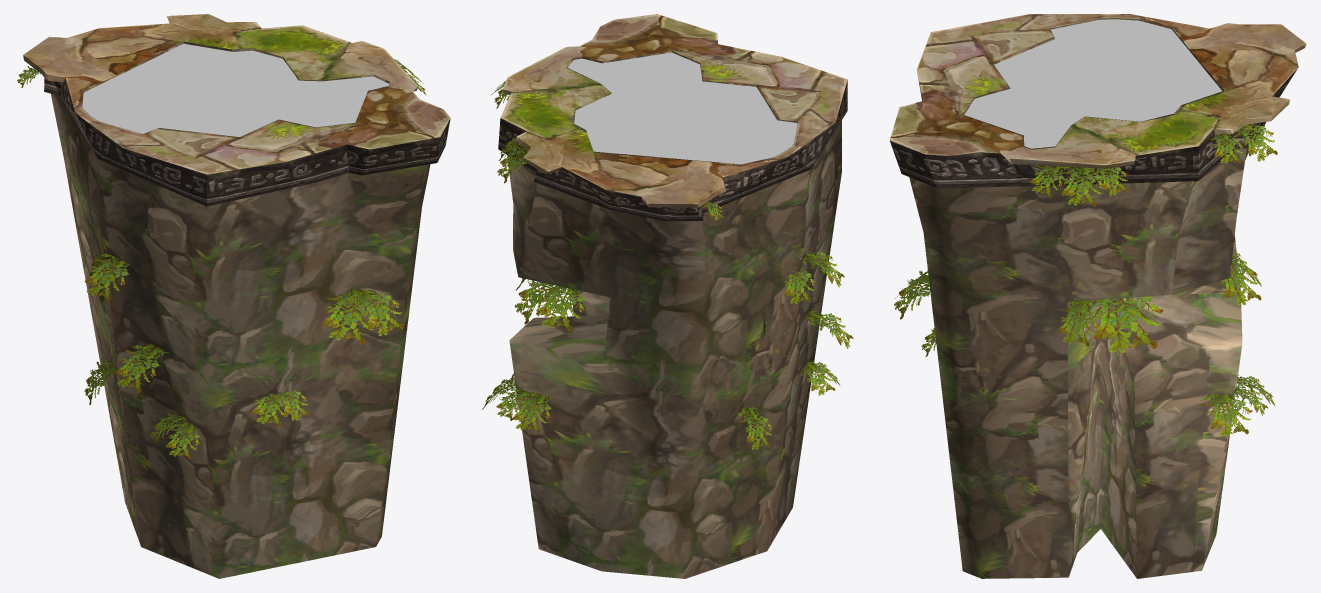
The model's file is gjs_yanti05.FBX.
The picture shows the model from 3 angles, left to right: view 1: azimuth 30°, elevation 25°; view 2: azimuth 150°, elevation 25°; view 3: azimuth 270°, elevation 25°; orthographic projection. The views are drawn at different scales.
Parts seen in each view (by area): view 1: 对象211, 对象210, 对象222, Plane127, Plane126, Plane123, Plane121, 对象12, Plane125, Plane128, Plane130, Plane129; view 2: 对象211, 对象210, 对象222, Plane115, Plane120, 对象12, Plane114, Plane130, Plane123, Plane122, Plane124, Plane121 (+2 smaller); view 3: 对象211, 对象210, 对象222, Plane116, Plane118, Plane117, Plane107, 对象12, Plane114, Plane110, Plane126, Plane106 (+2 smaller).
Part boxes in pixels (left/top/right/bottom): 对象211: left=51, top=93, right=430, bottom=578; 对象210: left=23, top=14, right=450, bottom=206; 对象222: left=82, top=43, right=389, bottom=137; Plane127: left=321, top=290, right=378, bottom=344; Plane126: left=347, top=289, right=403, bottom=336; Plane123: left=115, top=344, right=169, bottom=393; Plane121: left=84, top=253, right=129, bottom=301; 对象12: left=82, top=41, right=389, bottom=137; Plane125: left=165, top=421, right=200, bottom=458; Plane128: left=251, top=393, right=291, bottom=426; Plane130: left=84, top=359, right=115, bottom=404; Plane129: left=269, top=391, right=309, bottom=420; 对象211: left=507, top=120, right=841, bottom=578; 对象210: left=498, top=14, right=847, bottom=221; 对象222: left=568, top=52, right=797, bottom=164; Plane115: left=536, top=283, right=586, bottom=331; Plane120: left=512, top=392, right=551, bottom=433; 对象12: left=566, top=51, right=797, bottom=164; Plane114: left=514, top=280, right=576, bottom=324; Plane130: left=737, top=407, right=772, bottom=449; Plane123: left=805, top=308, right=853, bottom=348; Plane122: left=782, top=266, right=816, bottom=303; Plane124: left=800, top=360, right=835, bottom=395; Plane121: left=802, top=251, right=844, bottom=287; 对象211: left=909, top=148, right=1248, bottom=578; 对象210: left=889, top=14, right=1306, bottom=187; 对象222: left=964, top=19, right=1221, bottom=148; Plane116: left=1076, top=296, right=1163, bottom=352; Plane118: left=1200, top=389, right=1252, bottom=436; Plane117: left=1057, top=301, right=1098, bottom=346; Plane107: left=1057, top=166, right=1105, bottom=206; 对象12: left=963, top=18, right=1223, bottom=149; Plane114: left=1217, top=263, right=1261, bottom=305; Plane110: left=1232, top=123, right=1277, bottom=161; Plane126: left=894, top=270, right=930, bottom=319; Plane106: left=1029, top=165, right=1069, bottom=197.
Size of the model in its own units: 18.36 by 21.77 by 18.64.
